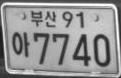0: (93, 32, 111, 68)
1: (76, 10, 87, 28)
4: (72, 33, 92, 67)
7: (33, 31, 51, 65), (51, 31, 69, 65)
9: (61, 10, 74, 27)
부산_H: (29, 8, 57, 28)
아: (11, 31, 30, 57)
